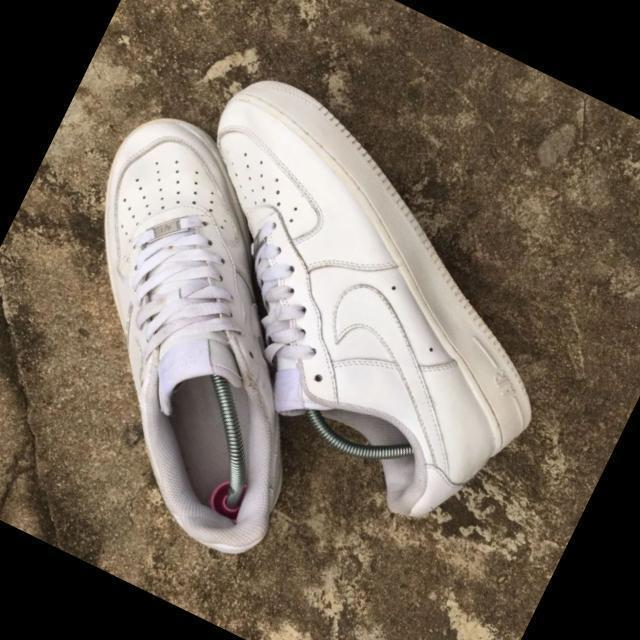nike original air force: (94, 51, 630, 544), (0, 92, 415, 569)
